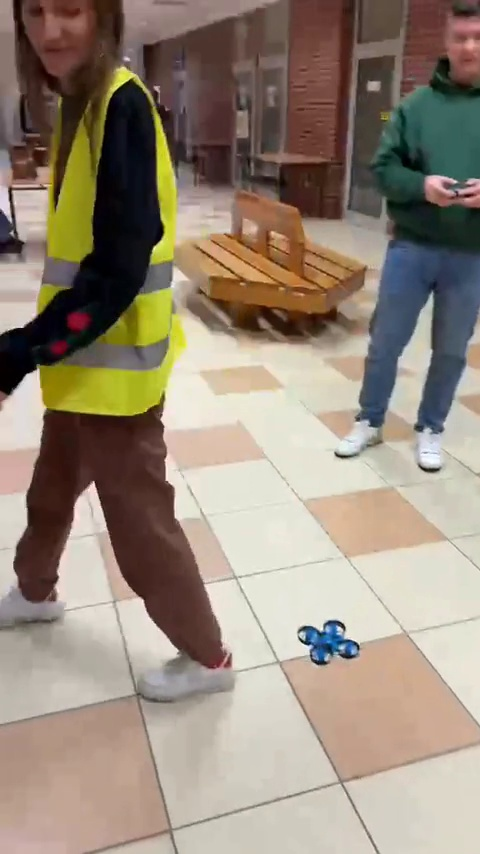drone: (294, 622, 363, 658)
no vest: (357, 5, 480, 467)
vest: (8, 3, 233, 704)
